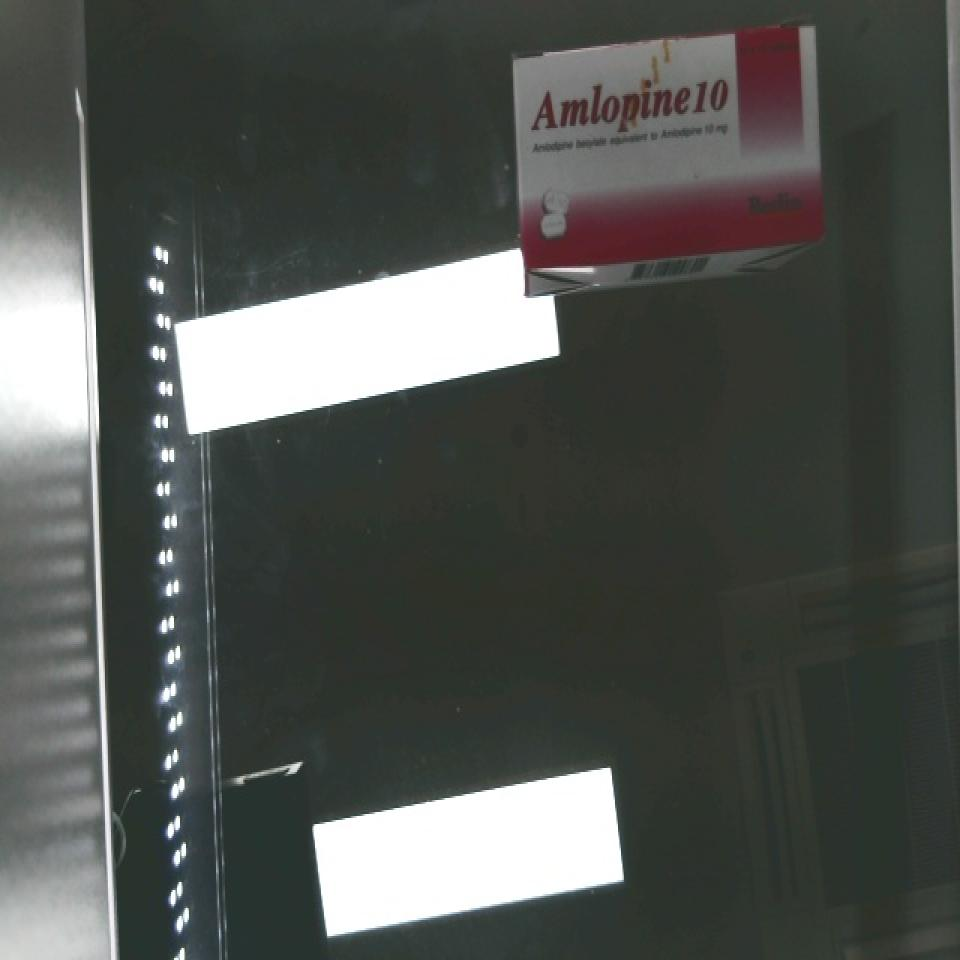medicine_box: (497, 12, 843, 276)
medicine_label_obb: (515, 50, 744, 142)
